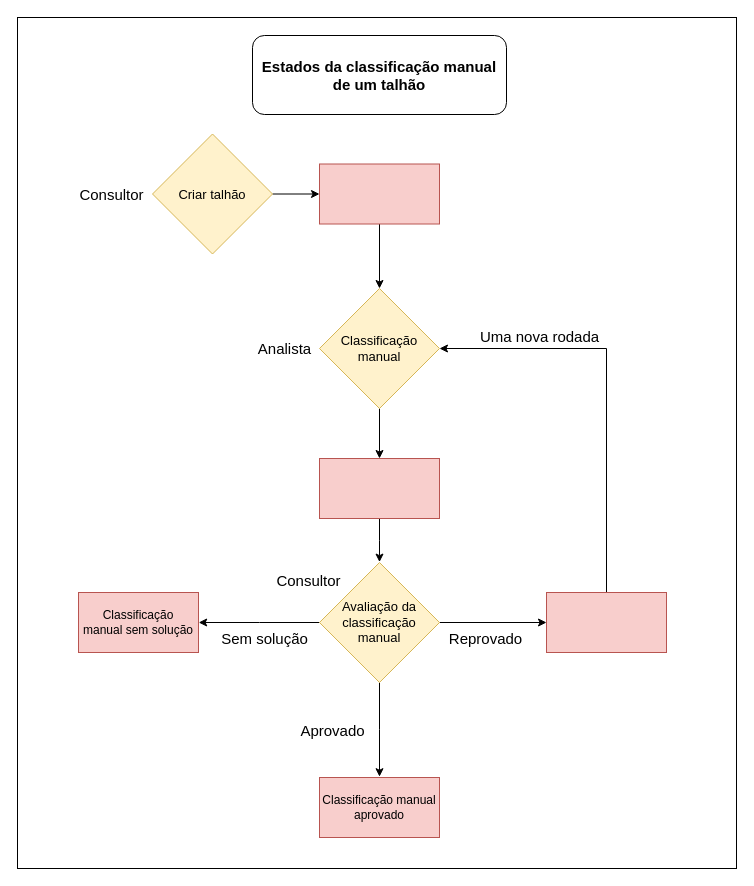
Some shapes in this 754 by 886 pixel diagram are drawn without their labels. Each missing label, with the centre of its shape:
"Classificação manual aguardando aprovação" belongs at [379,488].
"Classificação manual reprovada" belongs at [606,622].
"Talhão pendente" belongs at [379,193].
